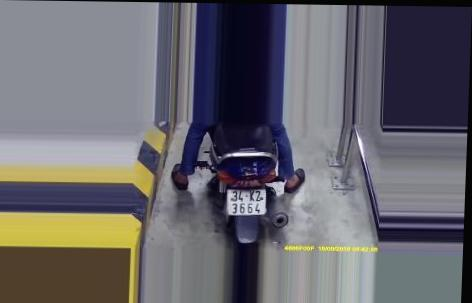License_Plate: (223, 185, 272, 218)
